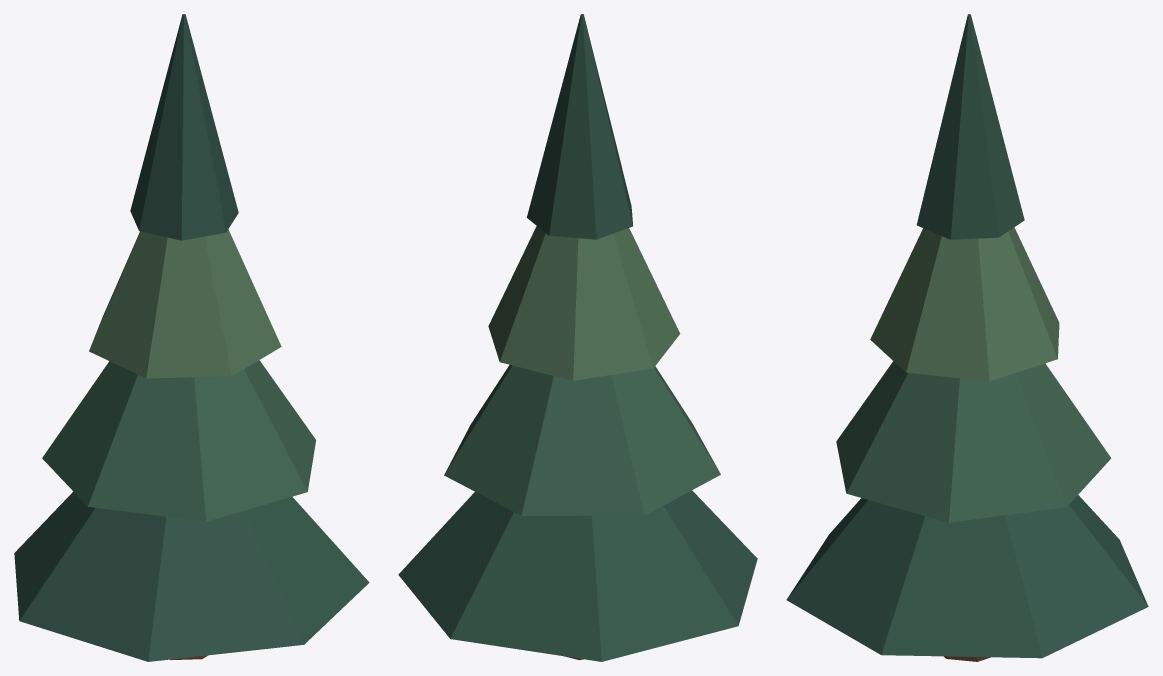
3 renders of one model, left to right at view 1: azimuth 30°, elevation 25°; view 2: azimuth 150°, elevation 25°; view 3: azimuth 270°, elevation 25°, orthographic.
Parts seen in each view (by area): view 1: T20_海岸风松; view 2: T20_海岸风松; view 3: T20_海岸风松.
Part boxes in pixels (bbox=[...]): T20_海岸风松: bbox=[14, 14, 369, 661]; T20_海岸风松: bbox=[398, 14, 757, 661]; T20_海岸风松: bbox=[786, 14, 1148, 661].
Size of the model in its own units: 1.17 by 2.28 by 1.18.
